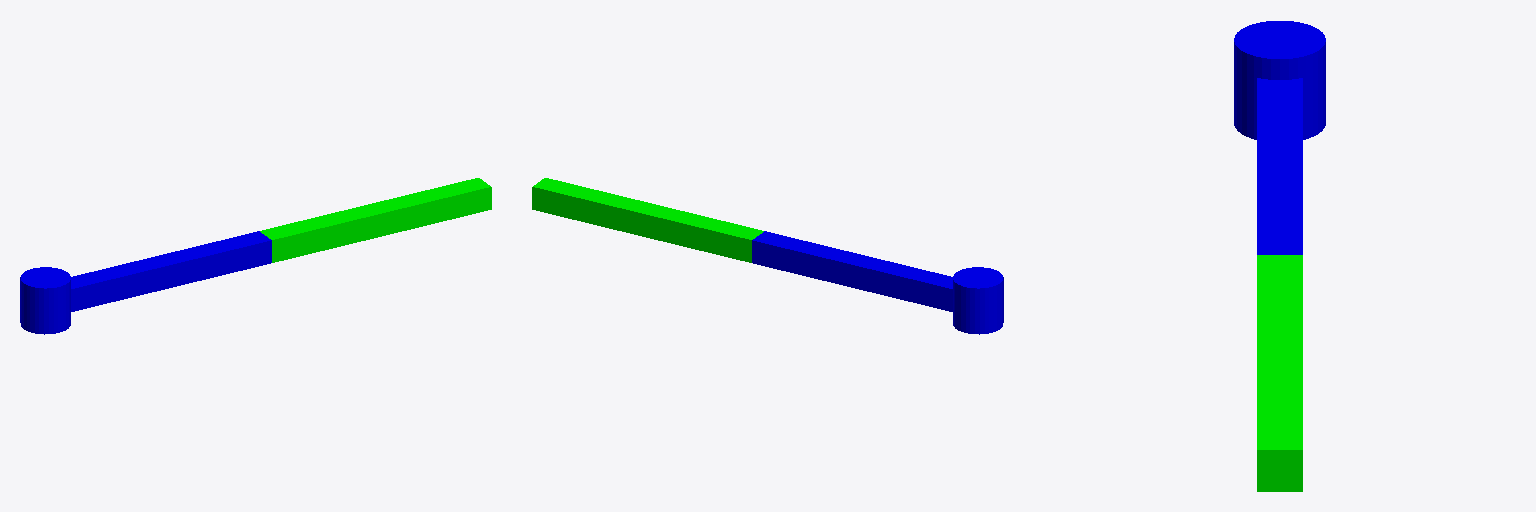
URDF robot description (two_link_robot):
<?xml version="1.0" ?>
<robot name="two_link_robot">

  <!-- Base link -->
  <link name="base_link">
    <inertial>
      <origin xyz="0 0 0" />
      <mass value="1.0" />
      <inertia ixx="0.1" ixy="0.0" ixz="0.0" iyy="0.1" iyz="0.0" izz="0.1" />
    </inertial>
    <visual>
      <origin xyz="0 0 0" rpy="0 0 0"/>
      <geometry>
        <cylinder radius="0.1" length="0.2"/>
      </geometry>
      <material name="blue">
        <color rgba="0 0 1 1"/>
      </material>
    </visual>
    <collision>
      <origin xyz="0 0 0" rpy="0 0 0"/>
      <geometry>
        <cylinder radius="0.1" length="0.2"/>
      </geometry>
    </collision>
  </link>

  <!-- Link 1 -->
  <link name="link1">
    <inertial>
      <origin xyz="-0.5 0 0" rpy="0 0 0"/>
      <mass value="1"/>
      <inertia ixx="0" ixy="0" ixz="0" iyy="0" iyz="0" izz="0"/>
    </inertial>
    <visual>
      <origin xyz="0.5 0 0" rpy="0 0 0"/>
      <geometry>
        <box size="1 0.1 0.1"/>
      </geometry>
      <material name="blue">
        <color rgba="0 0 1 1"/>
      </material>
    </visual>
    <collision>
      <origin xyz="0.5 0 0" rpy="0 0 0"/>
      <geometry>
        <box size="1 0.1 0.1"/>
      </geometry>
    </collision>
  </link>

  <!-- Joint 1 -->
  <joint name="joint1" type="revolute">
    <parent link="base_link"/>
    <child link="link1"/>
    <origin xyz="0 0 0" rpy="0 0 0"/>
    <axis xyz="0 0 1"/>
    <limit effort="1000" velocity="1" lower="-3.14" upper="3.14"/>
  </joint>

  <!-- Link 2 -->
  <link name="link2">
    <inertial>
      <origin xyz="-0.5 0 0" rpy="0 0 0"/>
      <mass value="1"/>
      <inertia ixx="0" ixy="0" ixz="0" iyy="0" iyz="0" izz="0"/>
    </inertial>
    <visual>
      <origin xyz="0.5 0 0" rpy="0 0 0"/>
      <geometry>
        <box size="1 0.1 0.1"/>
      </geometry>
      <material name="green">
        <color rgba="0 1 0 1"/>
      </material>
    </visual>
    <collision>
      <origin xyz="0.5 0 0" rpy="0 0 0"/>
      <geometry>
        <box size="1 0.1 0.1"/>
      </geometry>
    </collision>
  </link>

  <!-- Joint 2 -->
  <joint name="joint2" type="revolute">
    <parent link="link1"/>
    <child link="link2"/>
    <origin xyz="1 0 0" rpy="0 0 0"/>
    <axis xyz="0 0 1"/>
    <limit effort="1000" velocity="1" lower="-3.14" upper="3.14"/>
  </joint>

  <!-- End effector joint (fixed) -->
  <joint name="end_effector" type="fixed">
    <origin xyz="1.0 0 0" rpy="0 1.5708 0"/>
    <parent link="link2"/>
    <child link="end_effector_link"/>
    <axis xyz="0 0 0"/>
  </joint>

  <!-- End effector link -->
  <link name="end_effector_link">
    <inertial>
      <origin xyz="1.0 0 0" rpy="0 1.5708 0"/>
      <mass value="0"/>
      <inertia ixx="0" ixy="0" ixz="0" iyy="0" iyz="0" izz="0"/>
    </inertial>
  </link>

</robot>

--- Render facts (derived) ---
3 views of the same robot in one strip: view 1: azimuth 30°, elevation 25°; view 2: azimuth 150°, elevation 25°; view 3: azimuth 270°, elevation 25° (orthographic).
Robot: two_link_robot — 4 links, 3 joints (2 revolute, 1 fixed); root link base_link; default pose: every joint at zero.
Links seen in each view (by area): view 1: link2, link1, base_link; view 2: link2, link1, base_link; view 3: link2, link1, base_link.
Link boxes in pixels (<box>): link2: <box>260,178,491,262</box>; link1: <box>71,231,271,311</box>; base_link: <box>20,267,70,334</box>; link2: <box>532,178,763,262</box>; link1: <box>752,231,952,311</box>; base_link: <box>953,267,1003,334</box>; link2: <box>1257,255,1302,491</box>; link1: <box>1257,78,1302,254</box>; base_link: <box>1234,21,1325,139</box>.
Size in the robot's own frame: 2.1 by 0.2 by 0.2 metres.
Geometry: primitives only (box / cylinder / sphere), no mesh files.